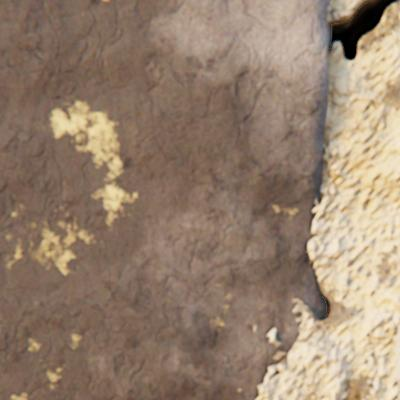brick: (0, 0, 329, 399), (396, 324, 399, 399)
crack: (329, 0, 399, 62), (327, 300, 330, 313)
